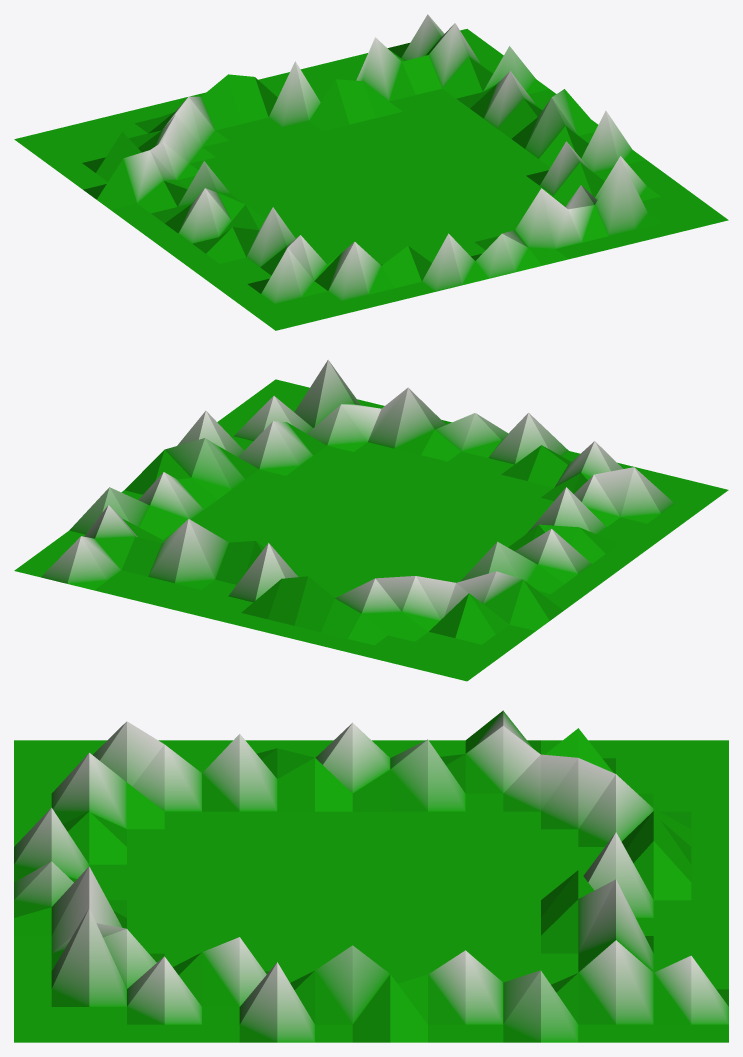
The model's file is ground.fbx.
The picture shows the model from 3 angles, top to bottom: view 1: azimuth 30°, elevation 25°; view 2: azimuth 150°, elevation 25°; view 3: azimuth 270°, elevation 25°; orthographic projection. The views are drawn at different scales.
Visible parts, largest first — view 1: Plane.001; view 2: Plane.001; view 3: Plane.001.
Boxes of the visible parts, x1=… form: Plane.001: x1=14, y1=14, x2=728, y2=330; Plane.001: x1=14, y1=359, x2=728, y2=681; Plane.001: x1=14, y1=710, x2=728, y2=1042.
Bounding box in the file's own units: 59114 × 7423 × 59114.
